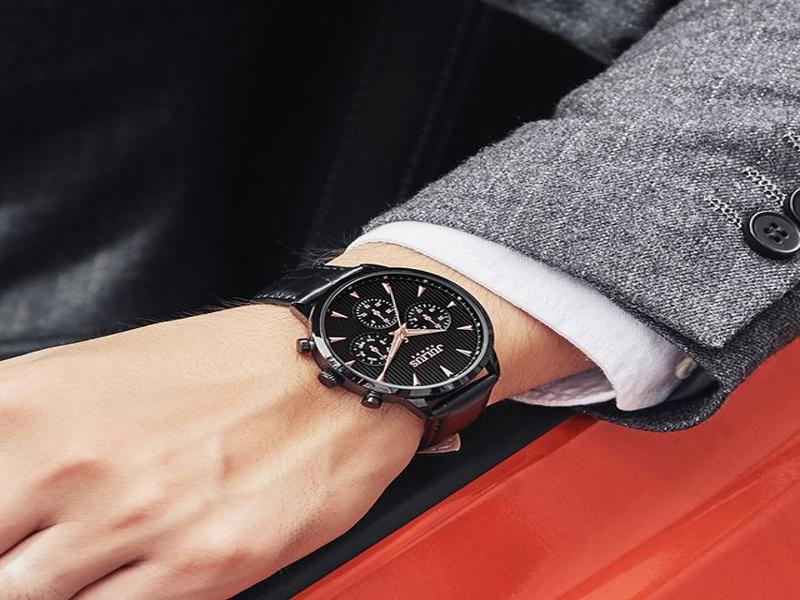watch: (255, 261, 502, 458)
